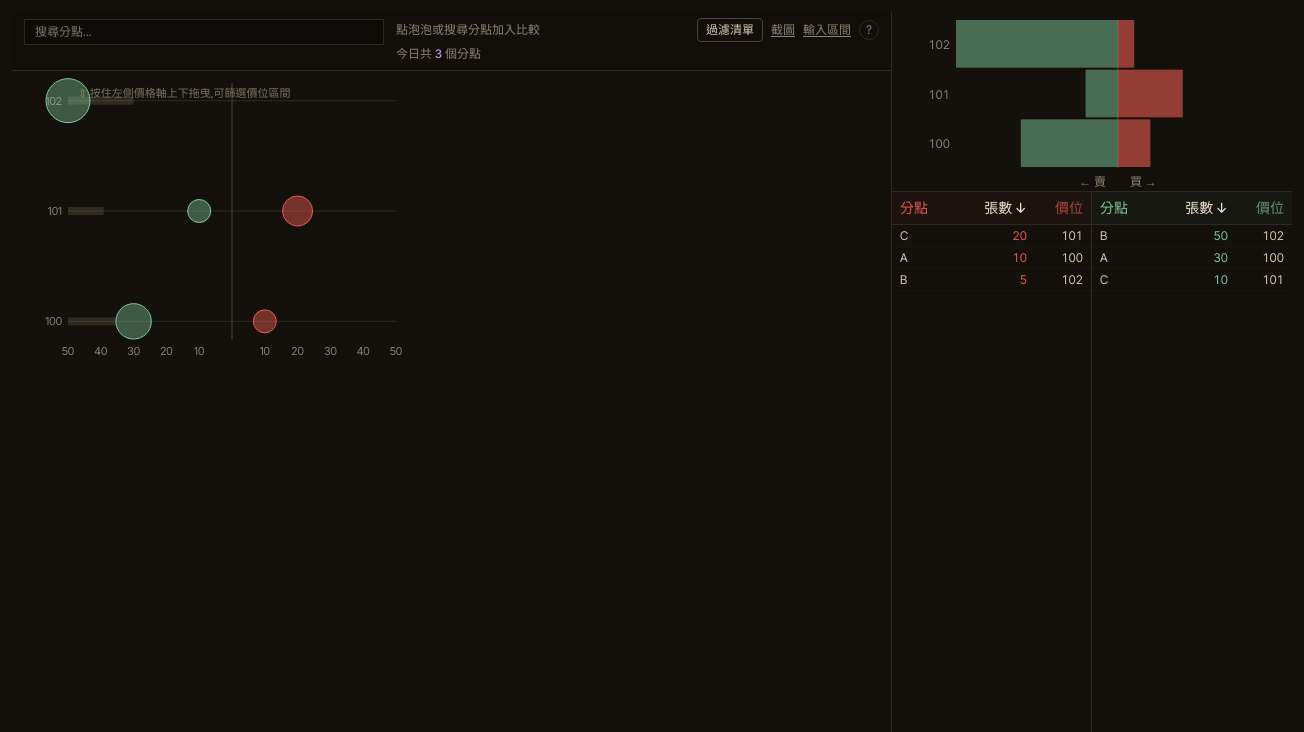
Scenario: ChipBubbleView trade-list sort headers — F2 › header buttons render arrow indicators that match the dir
Click the 1st column heading "價位": click(1055, 208) 1027,198 -> 1083,218
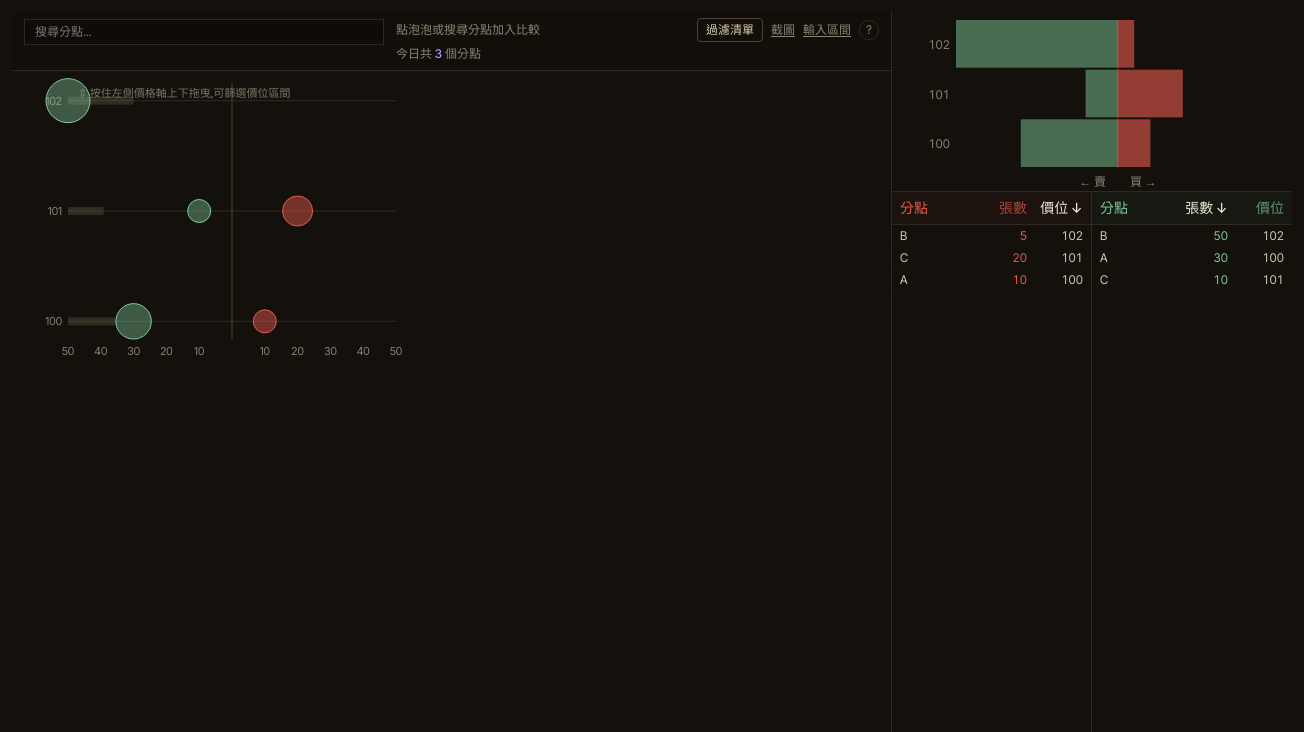
Click the column heading "價位↓": click(1055, 208) 1027,198 -> 1083,218
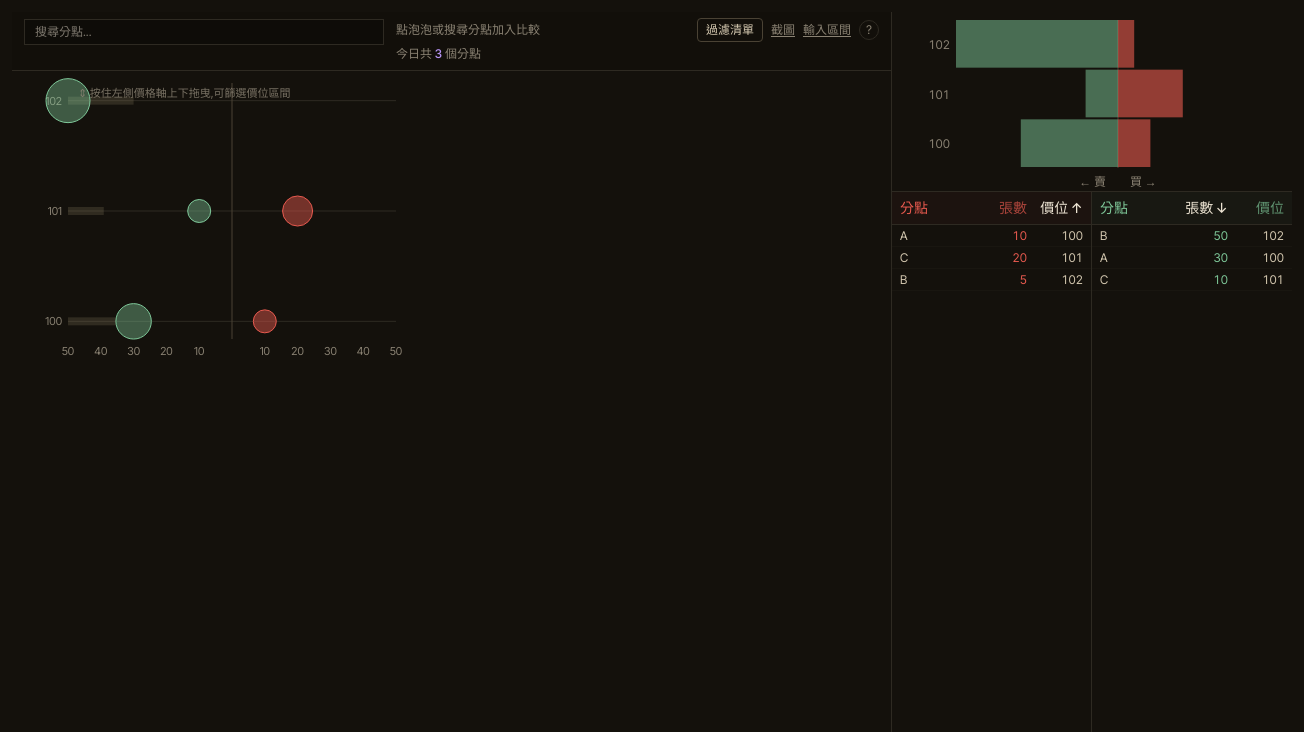
Expected: the column heading "價位↑" is shown, 1027,198 -> 1083,218
